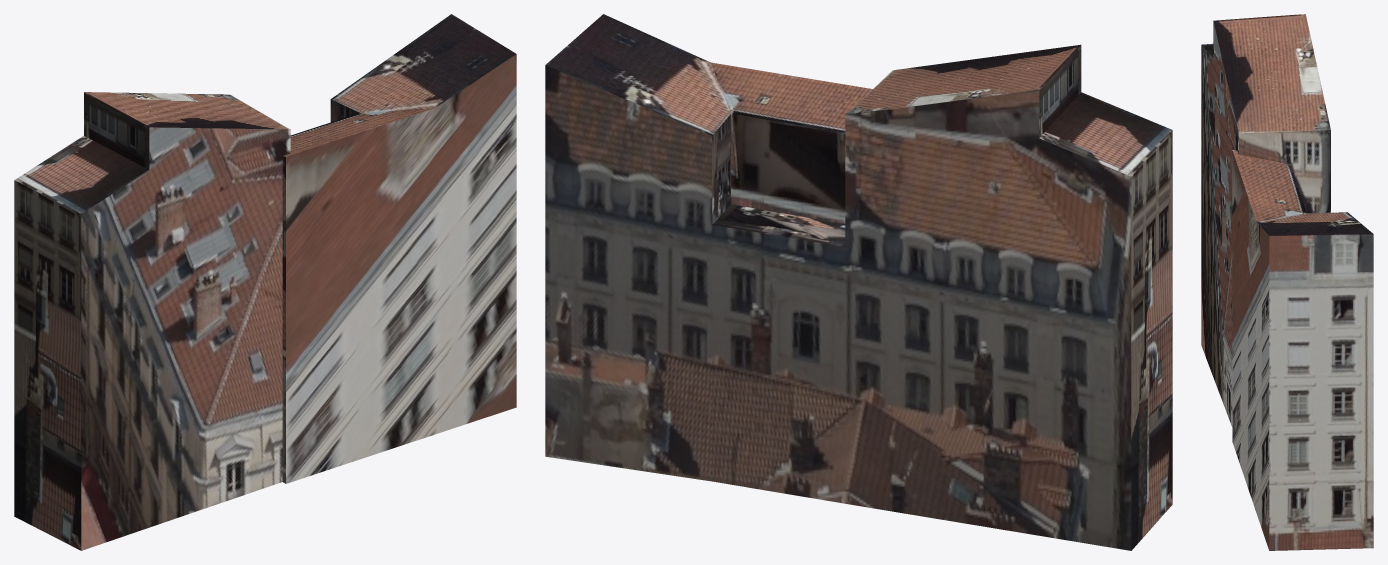
The picture shows the model from 3 angles, left to right: view 1: azimuth 30°, elevation 25°; view 2: azimuth 150°, elevation 25°; view 3: azimuth 270°, elevation 25°; orthographic projection. The views are drawn at different scales.
Visible parts, largest first — view 1: Z_UP; view 2: Z_UP; view 3: Z_UP.
Boxes of the visible parts, x1,y1,x2,y2 form: Z_UP: [14, 14, 516, 550]; Z_UP: [545, 14, 1172, 550]; Z_UP: [1201, 14, 1373, 550].
Bounding box in the file's own units: 30.29 × 23.76 × 10.4.
2 materials, 1 textured.
